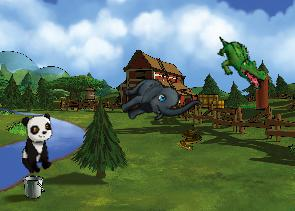crocodile: (206, 34, 275, 91)
elephant: (113, 58, 202, 144)
panda: (20, 113, 54, 174)
